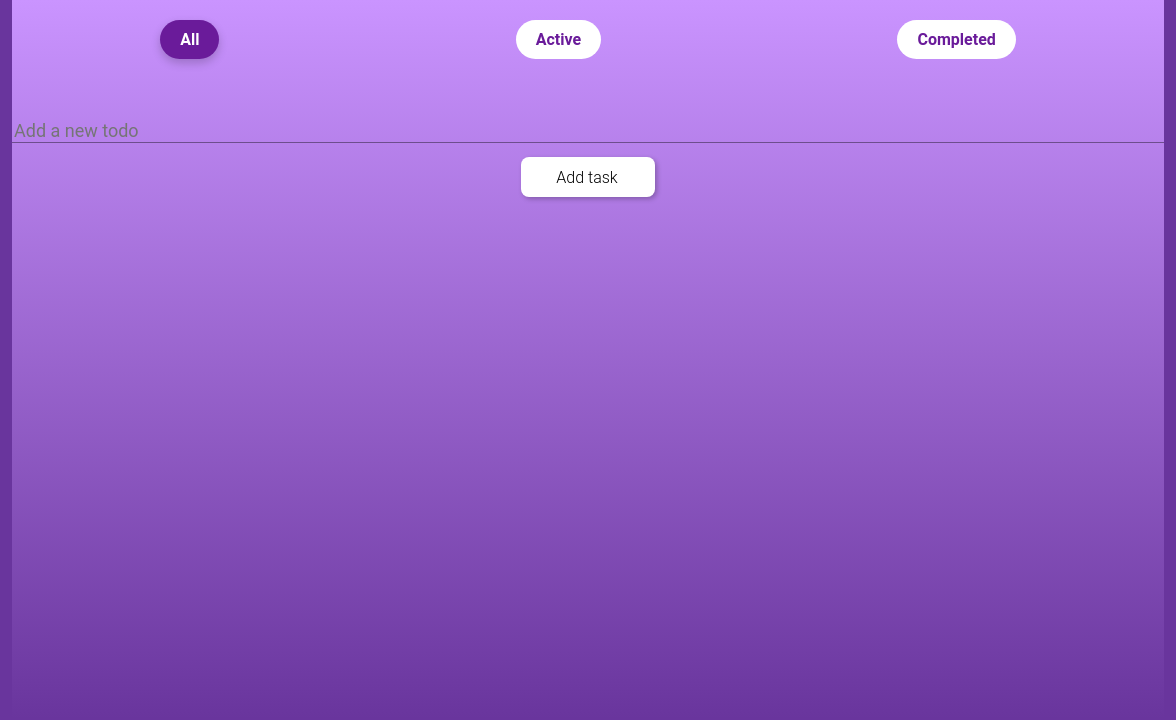
Test: Todos › adds a new todo and displays it
Type "New Todo" into the field with placeholder "Add a new todo" at (588, 131), box x1=12 y1=119 x2=1164 y2=143
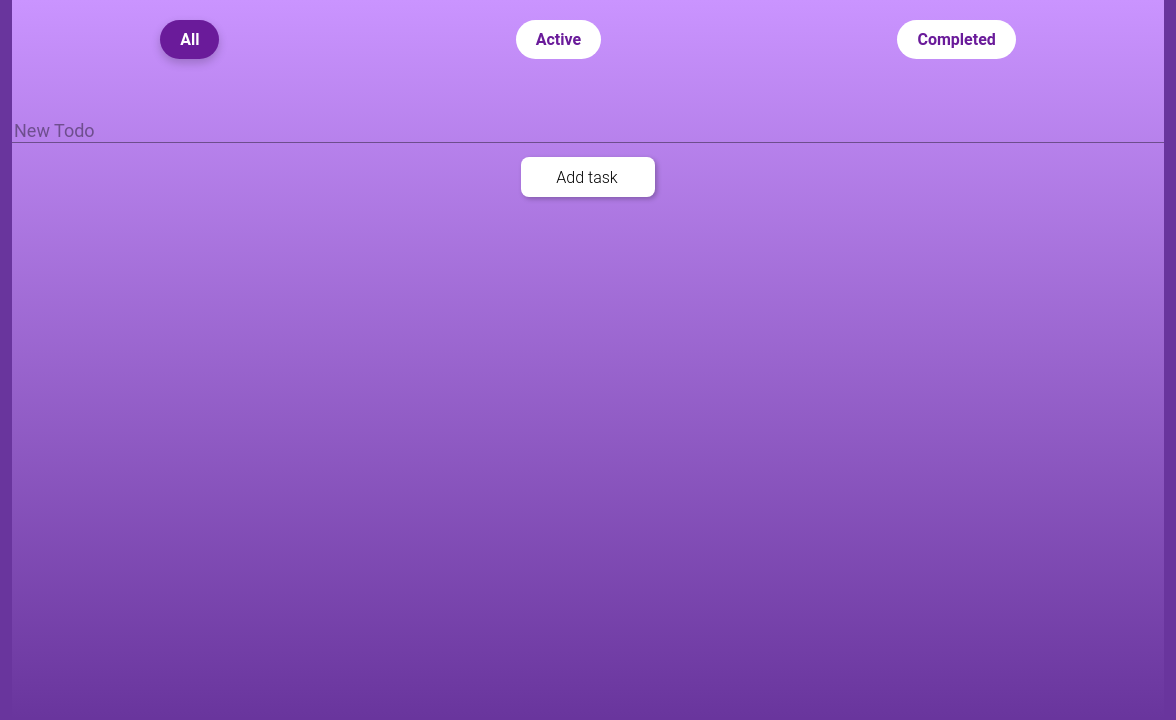
Click the button "Add task" at (588, 177), box x1=521 y1=157 x2=655 y2=197
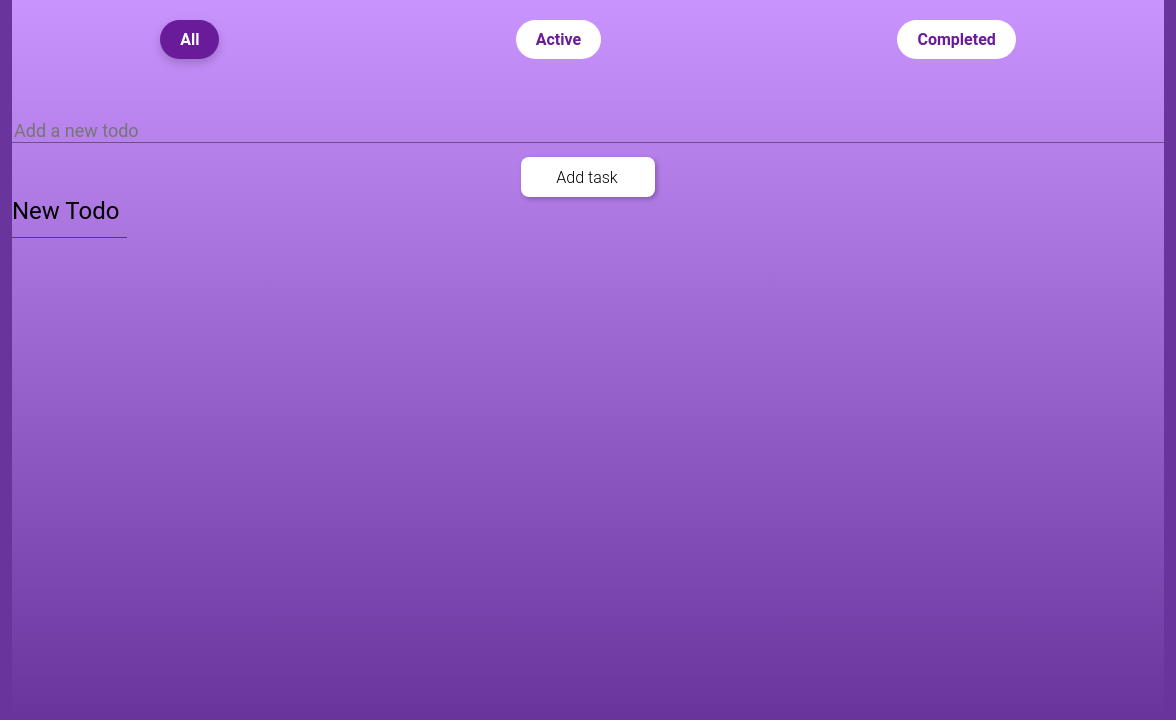
Now the text "New Todo" is shown, box x1=12 y1=197 x2=119 y2=225
